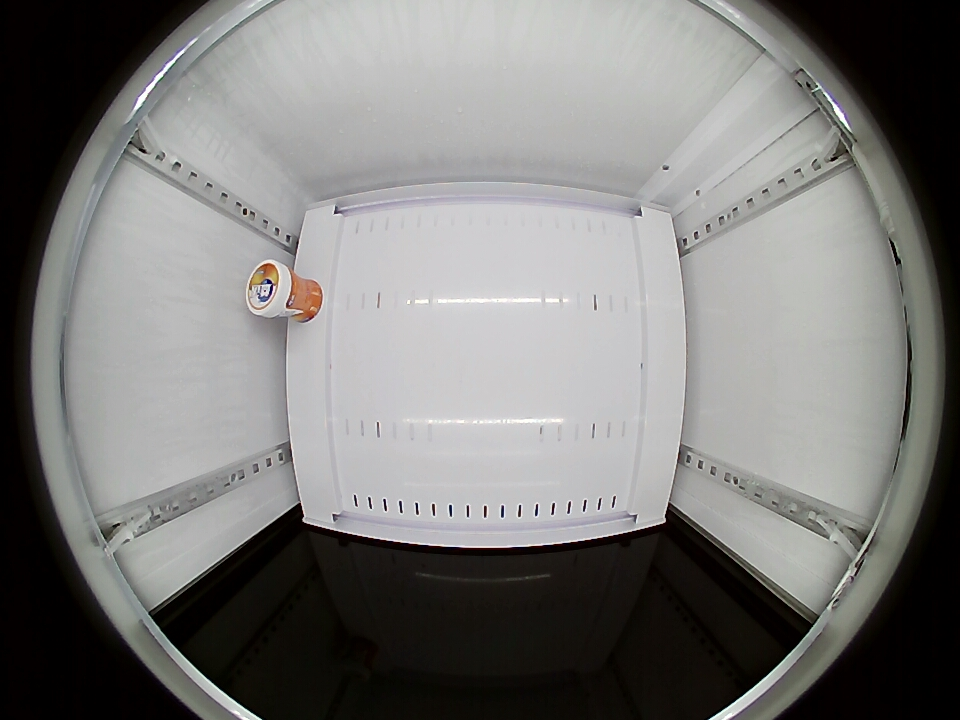yida: (246, 260, 297, 319)
